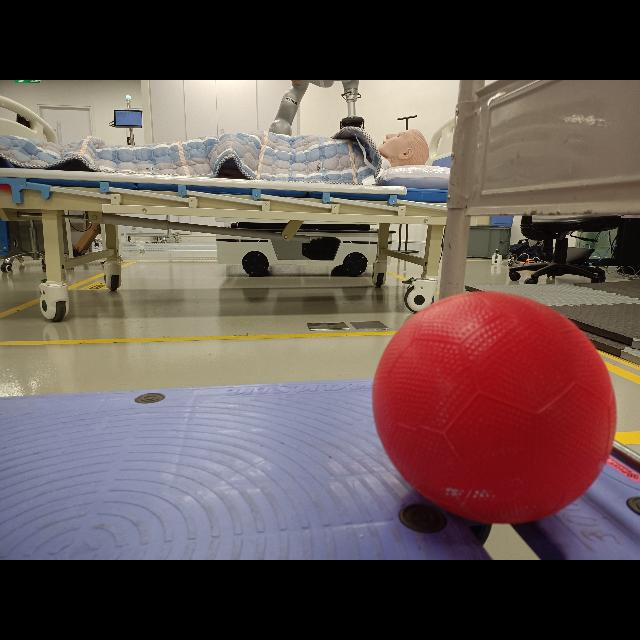R: (368, 290, 624, 526)
